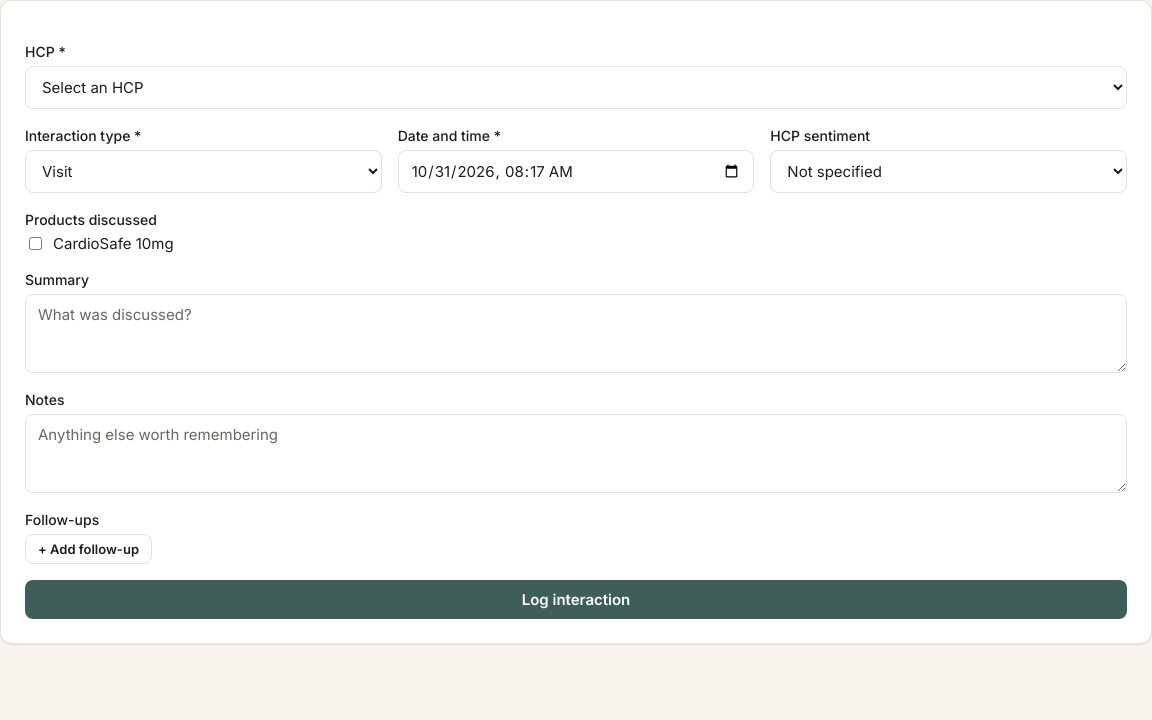
Scenario: LogInteractionForm › shows the server error and keeps the typed values
The image size is (1152, 720).
Select "Dr. Rohan Kapoor (Cardiology)" in the dropdown labelled "HCP *" at [576, 88], box [25,66,1127,109]
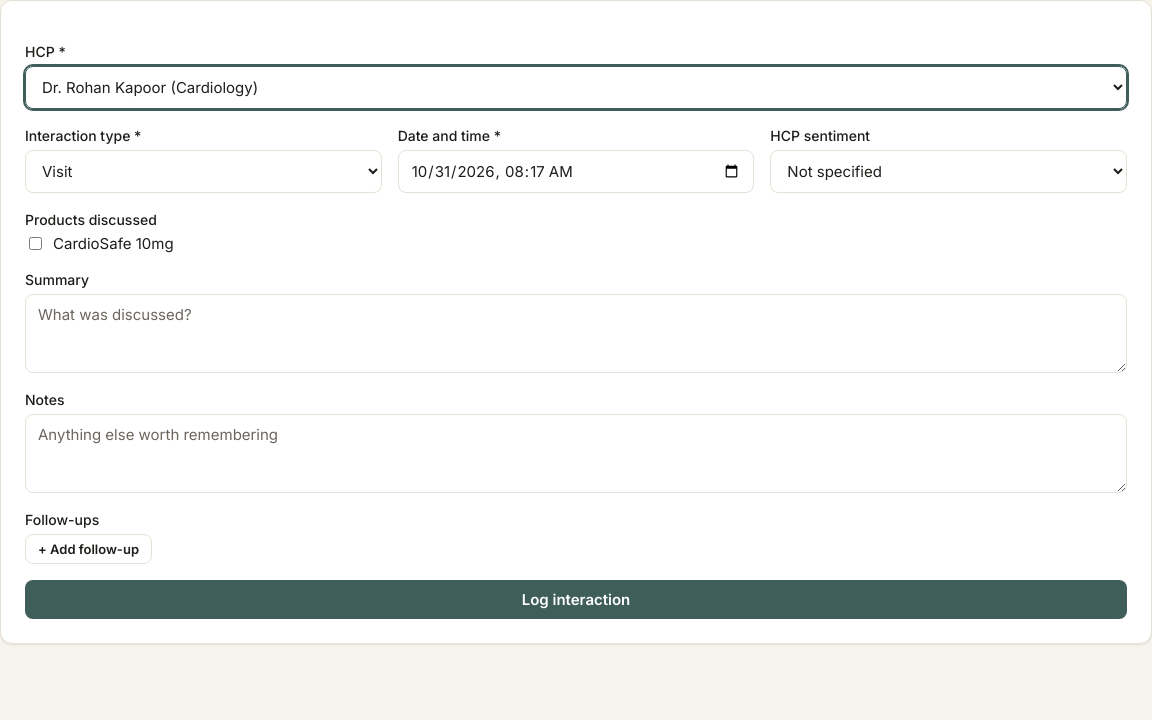
Type "Keep me" into the text box labelled "Summary" at [576, 334], box [25,294,1127,373]
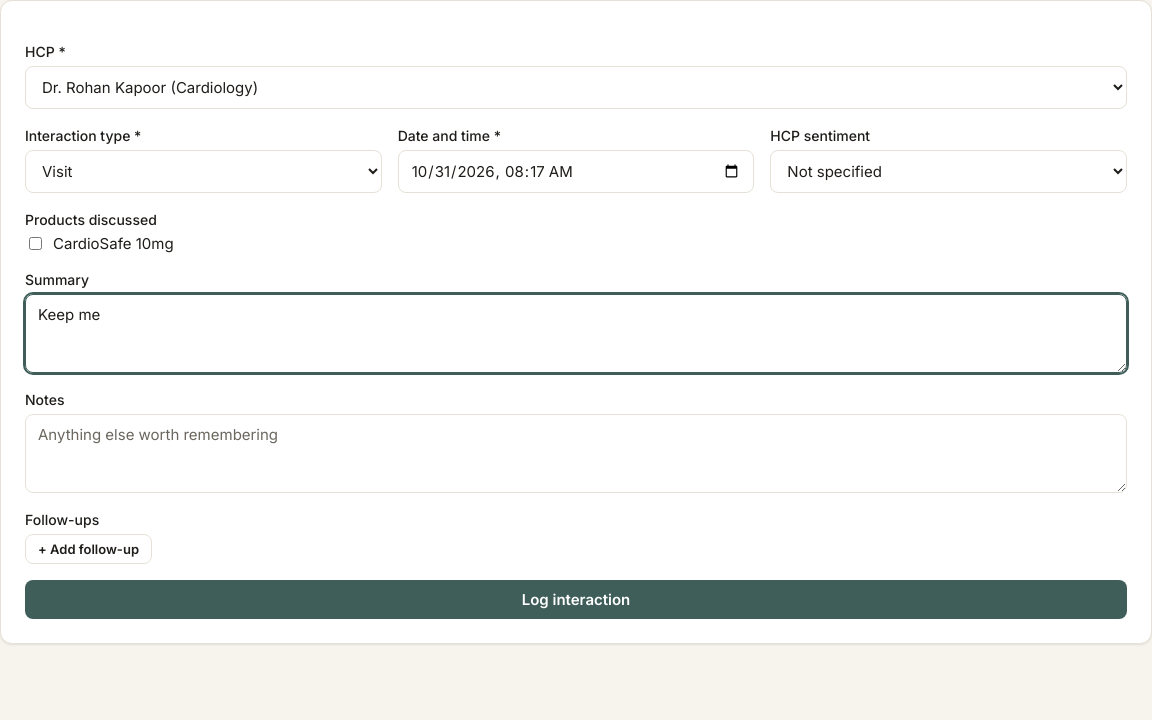
Click the button "Log interaction" at [576, 600], box [25,580,1127,619]
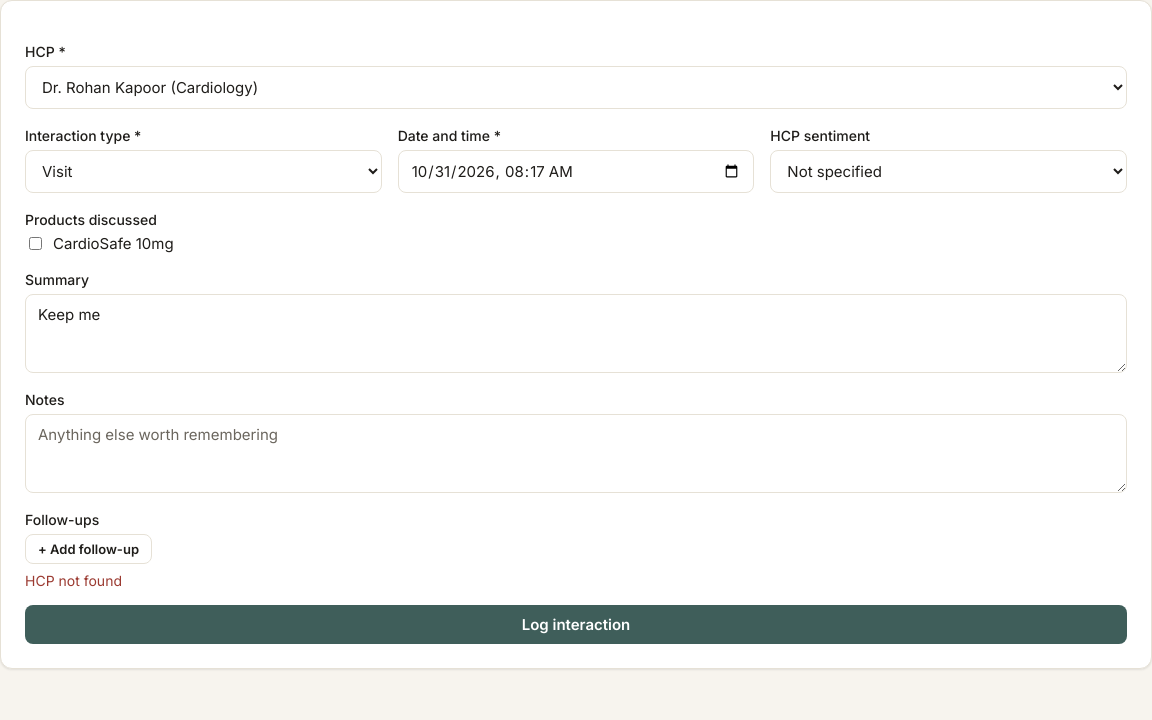
Result: the text "HCP not found" is shown at [25,572,122,589]
